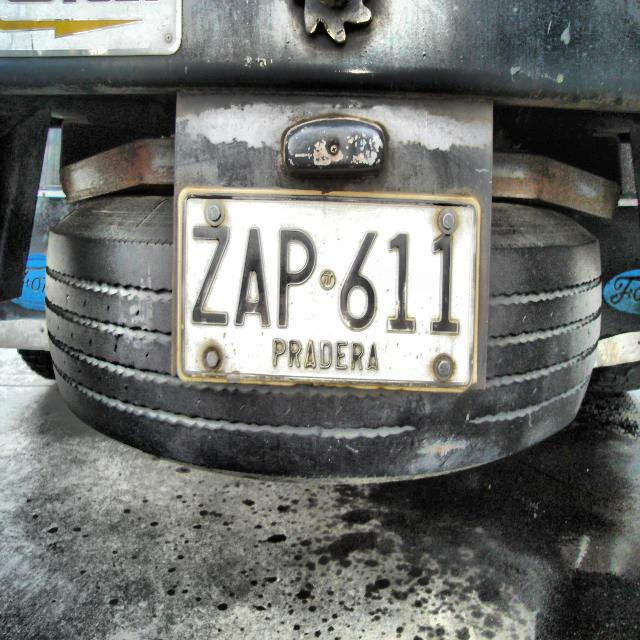plate: (177, 188, 480, 393)
